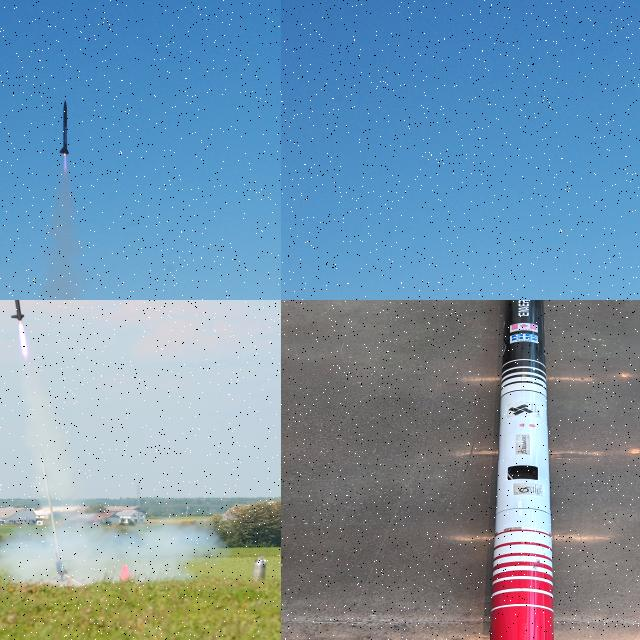Rocket: (489, 300, 555, 640), (59, 100, 70, 155), (11, 300, 25, 321)
